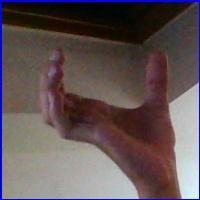space: (39, 37, 181, 173)
